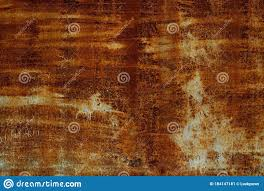rust: (1, 1, 264, 174)
